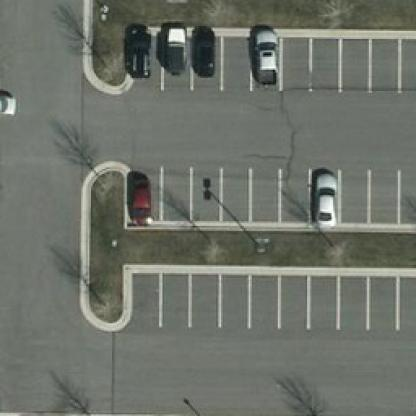car: (308, 170, 342, 226), (245, 27, 276, 84), (122, 23, 150, 78), (128, 169, 156, 224), (187, 24, 216, 75), (161, 28, 185, 76), (0, 91, 18, 120)
